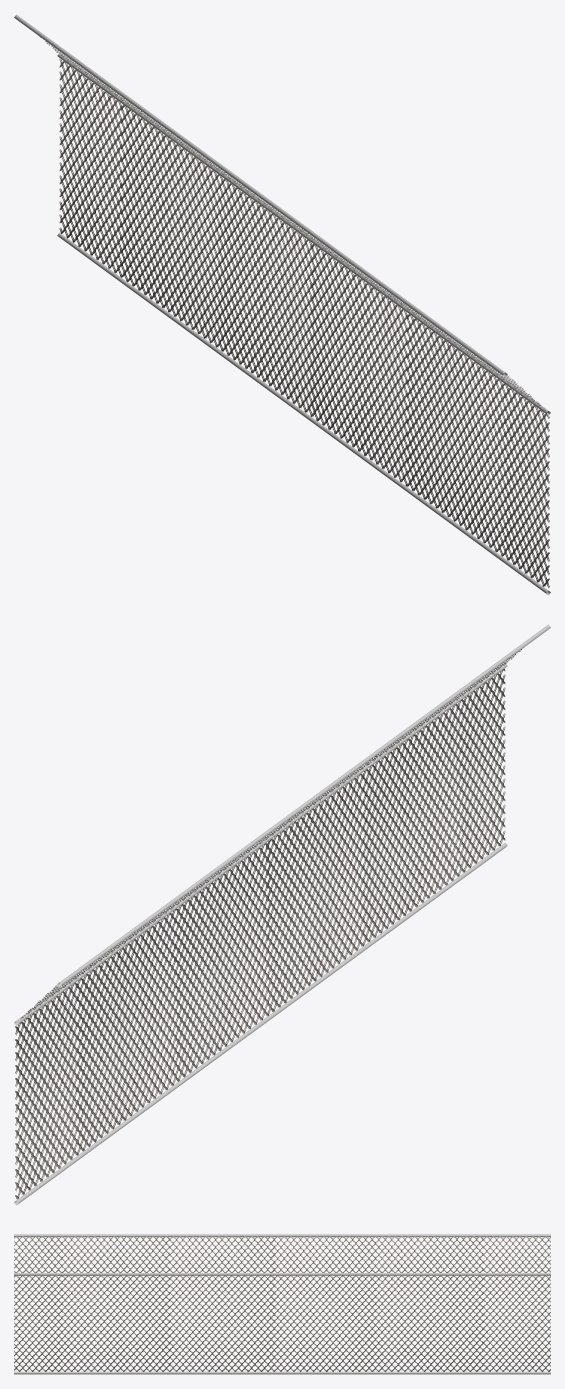
Rendered from Fence_00.fbx.
The picture shows the model from 3 angles, top to bottom: view 1: azimuth 30°, elevation 25°; view 2: azimuth 150°, elevation 25°; view 3: azimuth 270°, elevation 25°; orthographic projection. The views are drawn at different scales.
Visible parts, largest first — view 1: Fence_07, Fence_06; view 2: Fence_07, Fence_06; view 3: Fence_07, Fence_06.
Boxes of the visible parts, x1,y1,x2,y2 form: Fence_07: [39, 36, 549, 588]; Fence_06: [14, 14, 550, 595]; Fence_07: [15, 649, 521, 1199]; Fence_06: [14, 624, 550, 1205]; Fence_07: [14, 1236, 550, 1371]; Fence_06: [14, 1234, 550, 1374].
Size of the model in its own units: 31.2 by 145 by 550.
